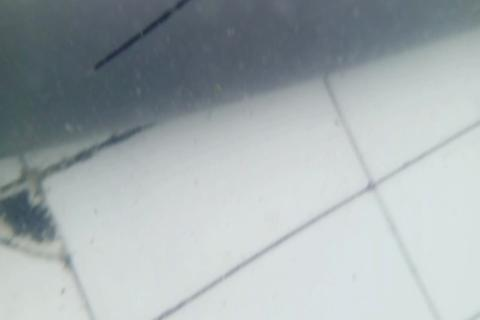keretakan: (92, 0, 188, 66)
